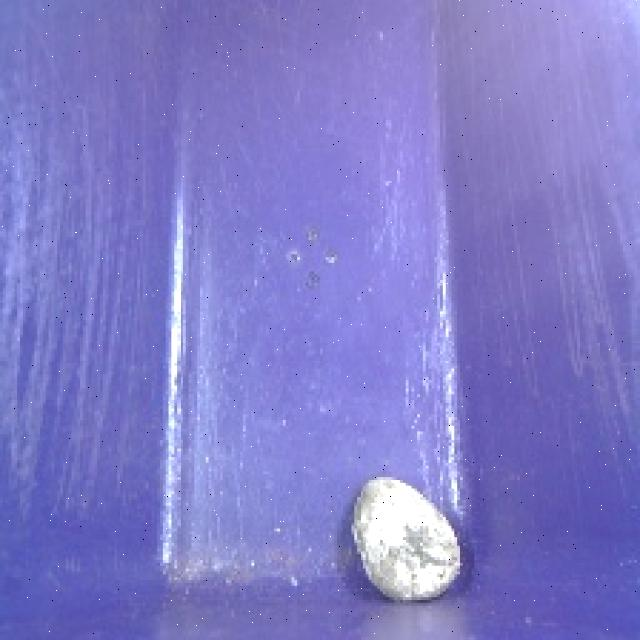cobbles: (339, 467, 474, 613)
